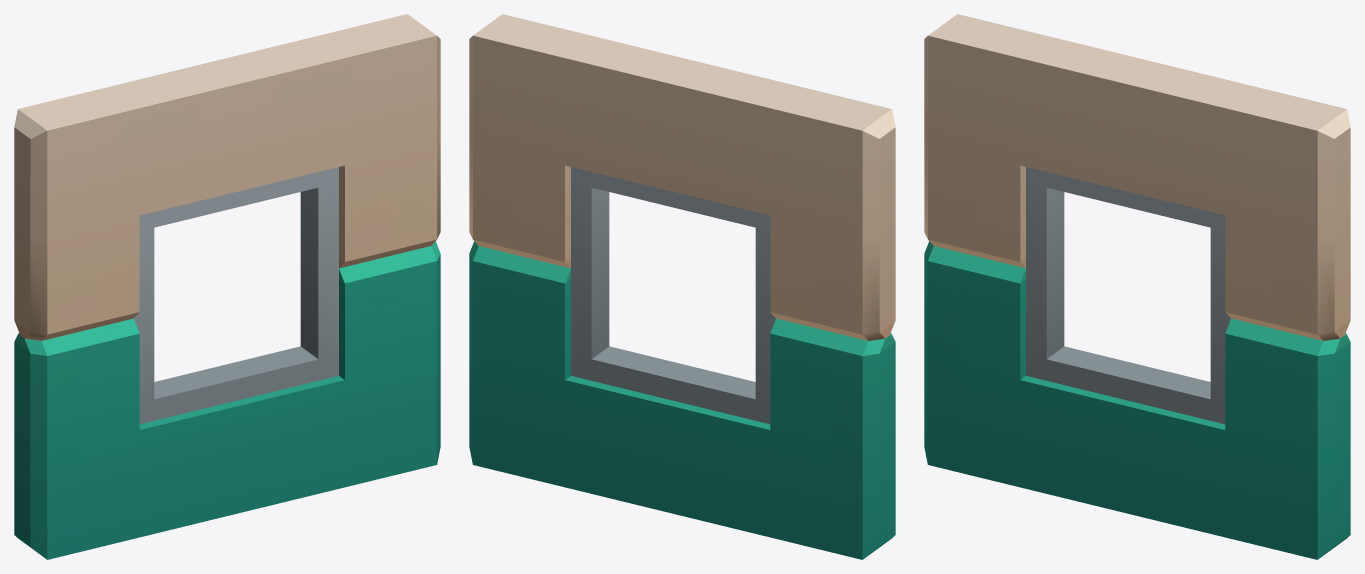
Rendered from wall-window-open.glb.
3 renders of one model, left to right at view 1: azimuth 30°, elevation 25°; view 2: azimuth 150°, elevation 25°; view 3: azimuth 330°, elevation 25°, orthographic.
Parts seen in each view (by area): view 1: wall_window_open; view 2: wall_window_open; view 3: wall_window_open.
Part boxes in pixels (box(x1,y1,x2,y2)): wall_window_open: box(14, 14, 440, 559); wall_window_open: box(469, 14, 895, 559); wall_window_open: box(924, 14, 1350, 559).
Size of the model in its own units: 4 by 4 by 0.5.
1 material, 1 textured.
